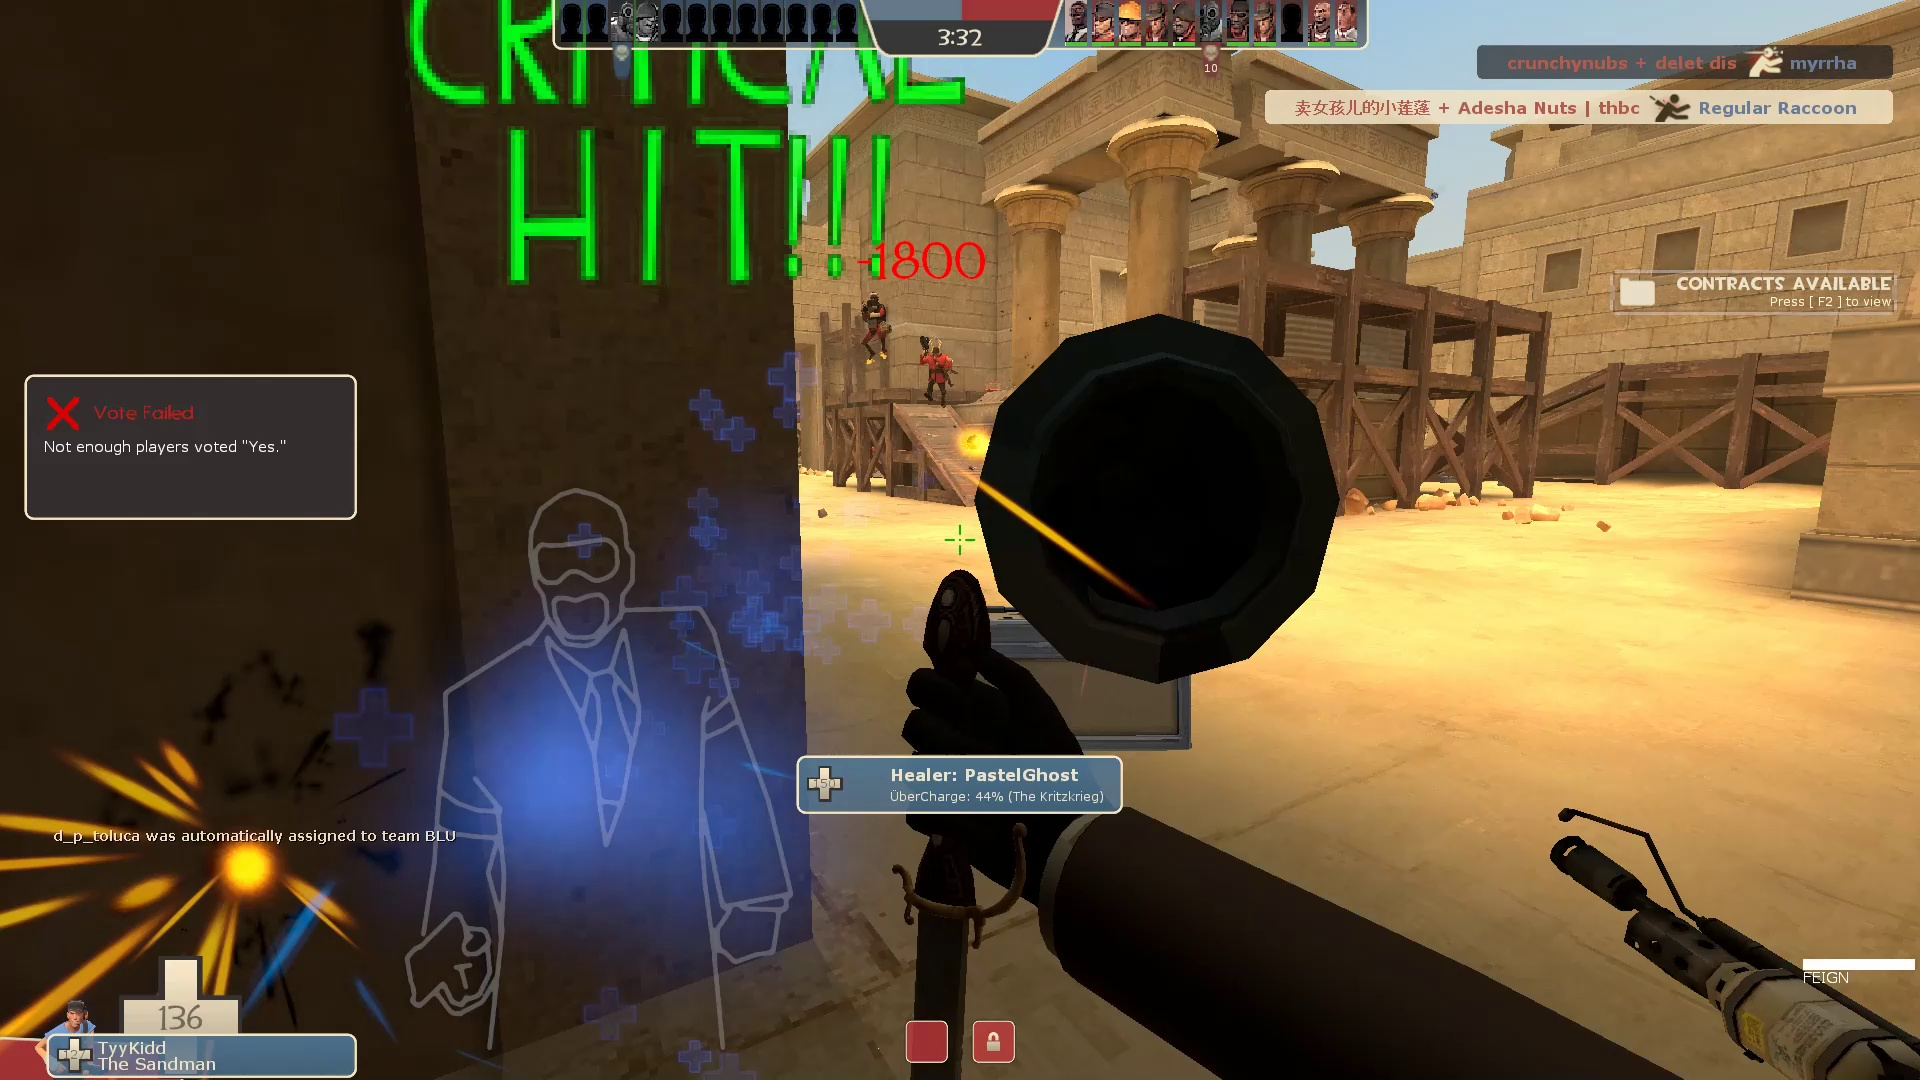red_demo: (855, 293, 895, 367)
red_soldier: (911, 334, 963, 409)
